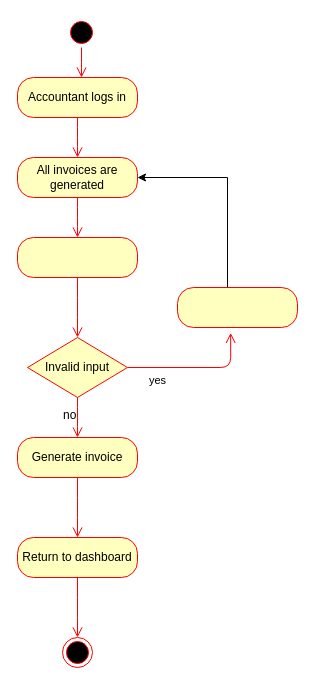
The diagram is 315 pixels wide and 685 high, and some of its shapes have lost their labels. Here are the shapes that lost their labels. From the top down, the box of each, then its label:
(16, 236, 138, 278): Select invoice
(176, 286, 298, 328): Show error
